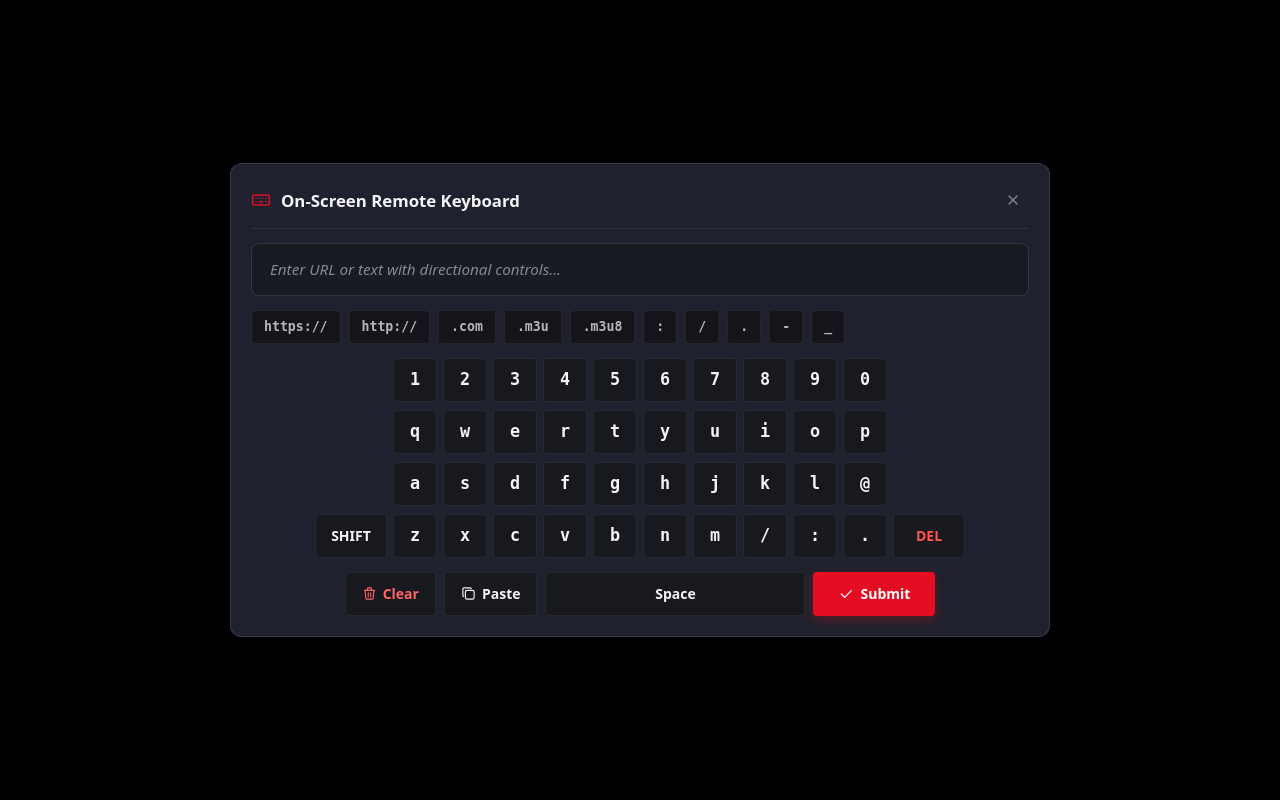
Scenario: VirtualKeyboard component › toggles uppercase letters when Shift is active
This screenshot has width=1280, height=800.
Later steps or results of the test are not shown.
Click the button "shift" at (351, 536), box [315,514,387,558]
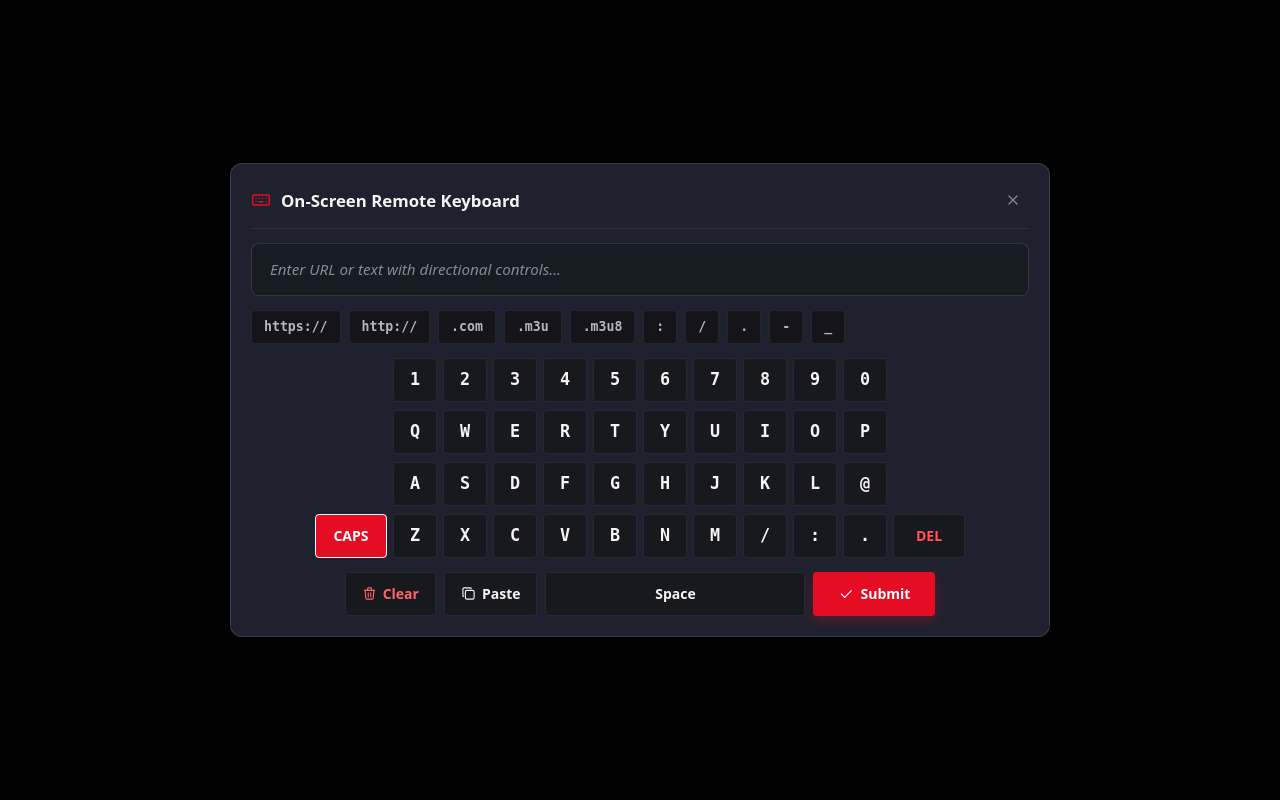
Expected: the button "A" is shown, [393,462,437,506]
Expected: the button "CAPS" is shown, [315,514,387,558]
